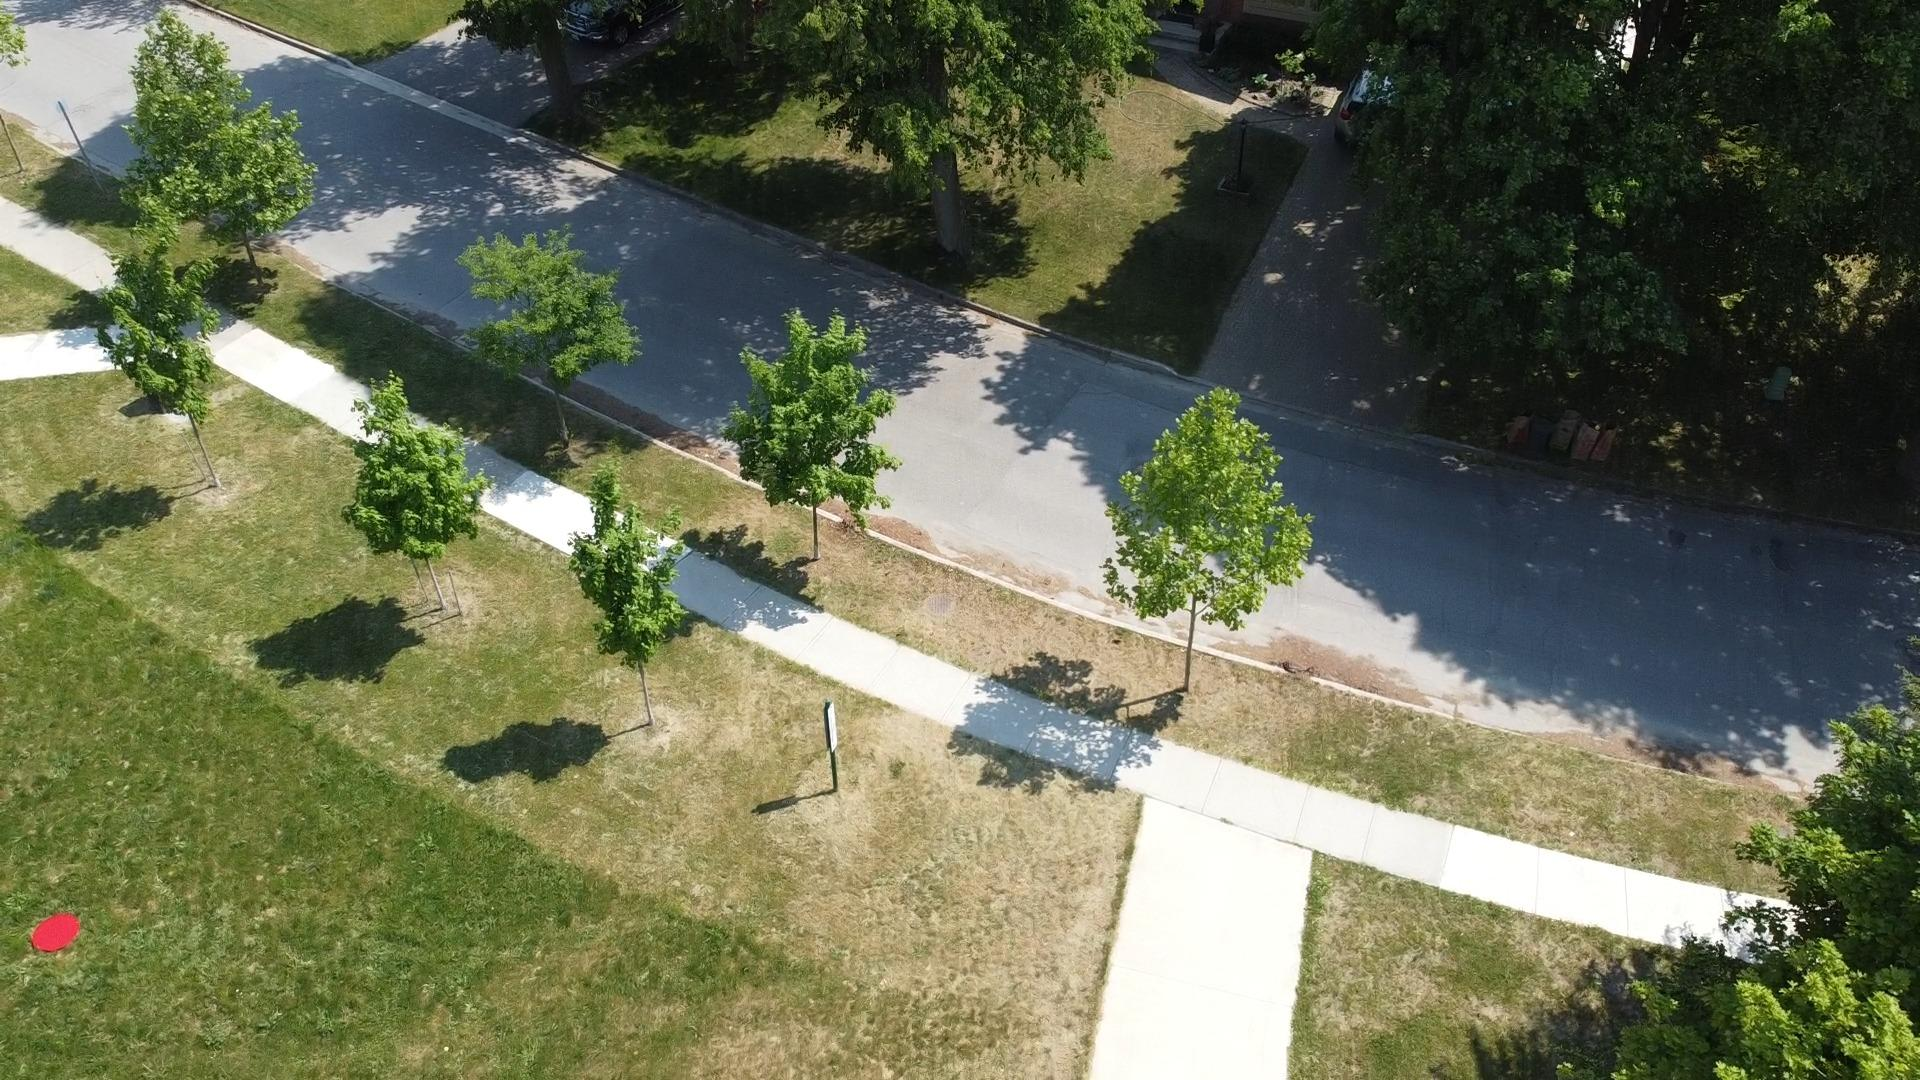Red: (30, 913, 80, 955)
